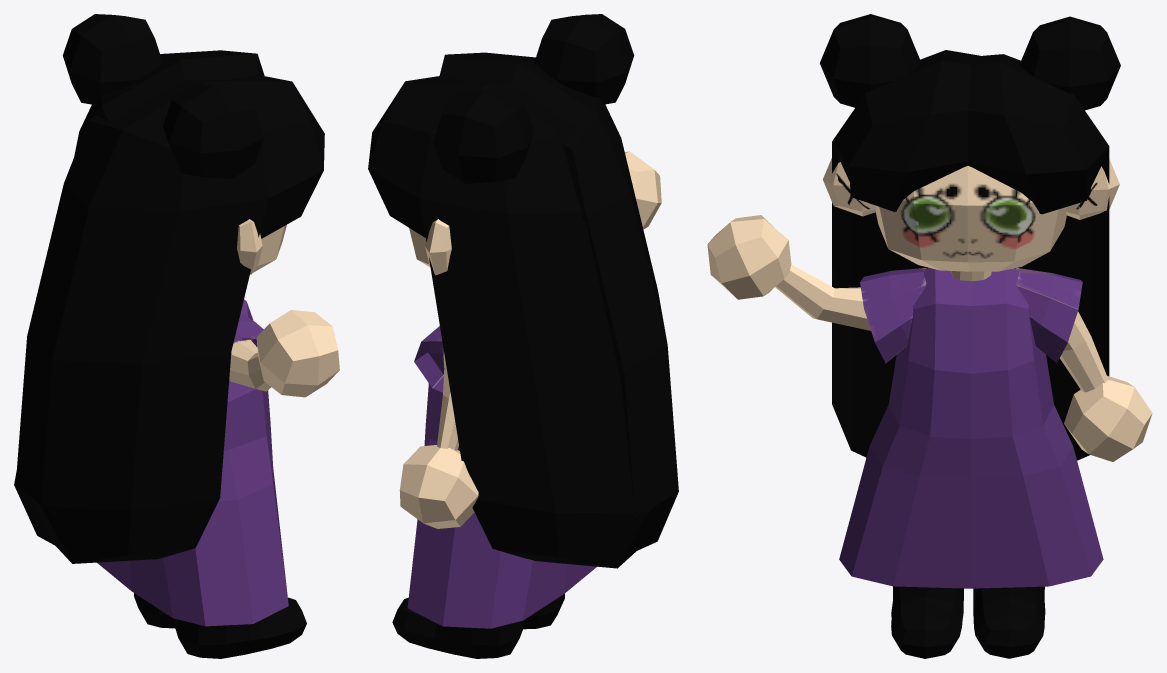
The model's file is naaaber.glb.
3 views of the same model, side by side, from view 1: azimuth 30°, elevation 25°; view 2: azimuth 150°, elevation 25°; view 3: azimuth 270°, elevation 25° (orthographic).
Visible parts, largest first — view 1: Cube.001; view 2: Cube.001; view 3: Cube.001.
Boxes of the visible parts, x1,y1,x2,y2 form: Cube.001: (14, 14, 339, 658); Cube.001: (368, 14, 678, 658); Cube.001: (707, 14, 1152, 658).
Bounding box in the file's own units: 1.67 × 3.57 × 2.42.
1 material, 1 textured.
